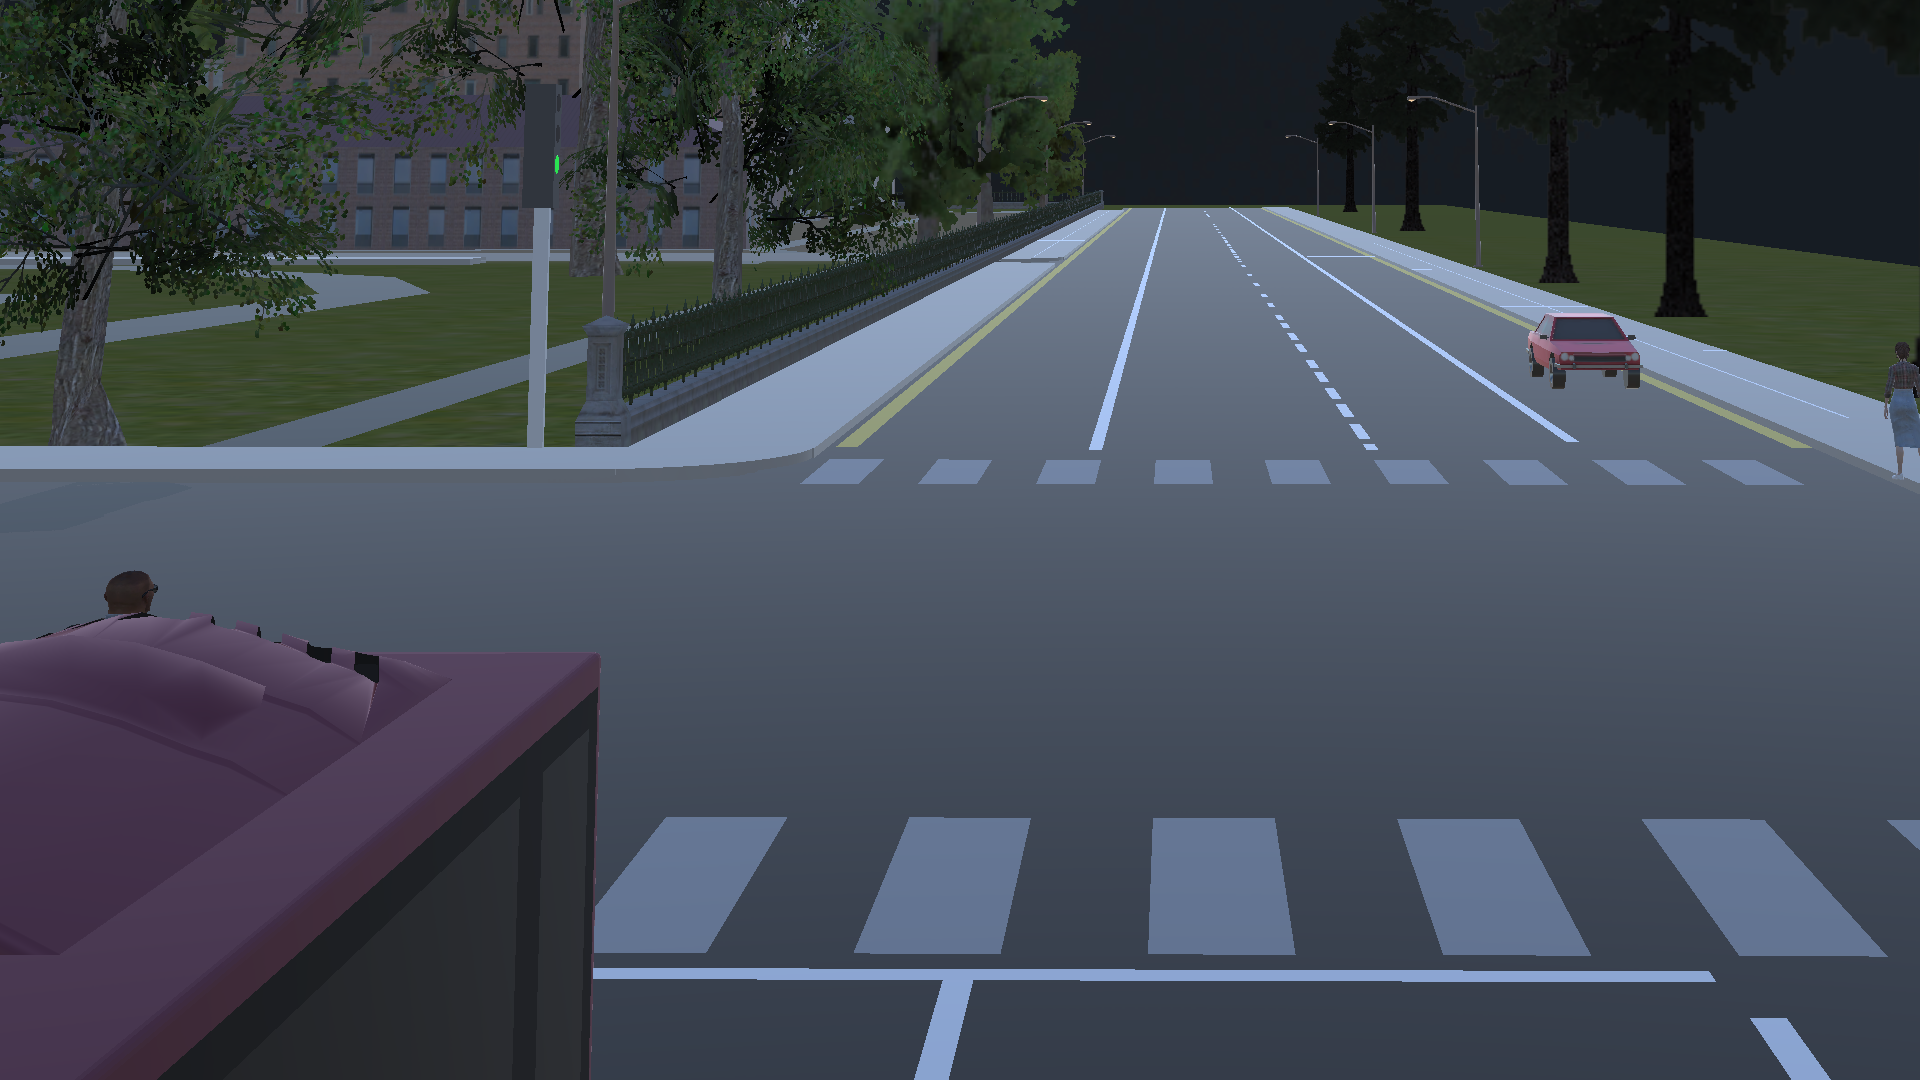pedestrian: (1883, 332, 1920, 487), (93, 569, 184, 612)
